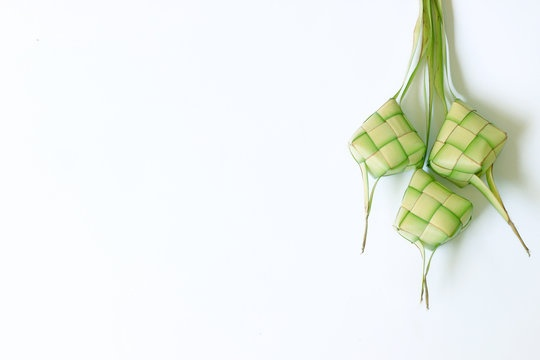ketupat: (428, 100, 508, 189), (393, 167, 472, 250), (348, 97, 426, 179)
